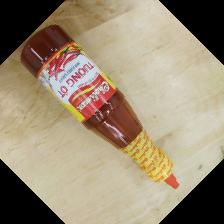Tuong: (21, 22, 181, 190)
